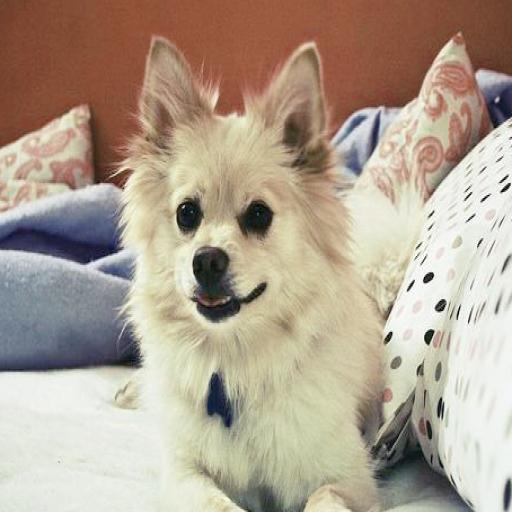dog_face: (129, 37, 324, 340)
